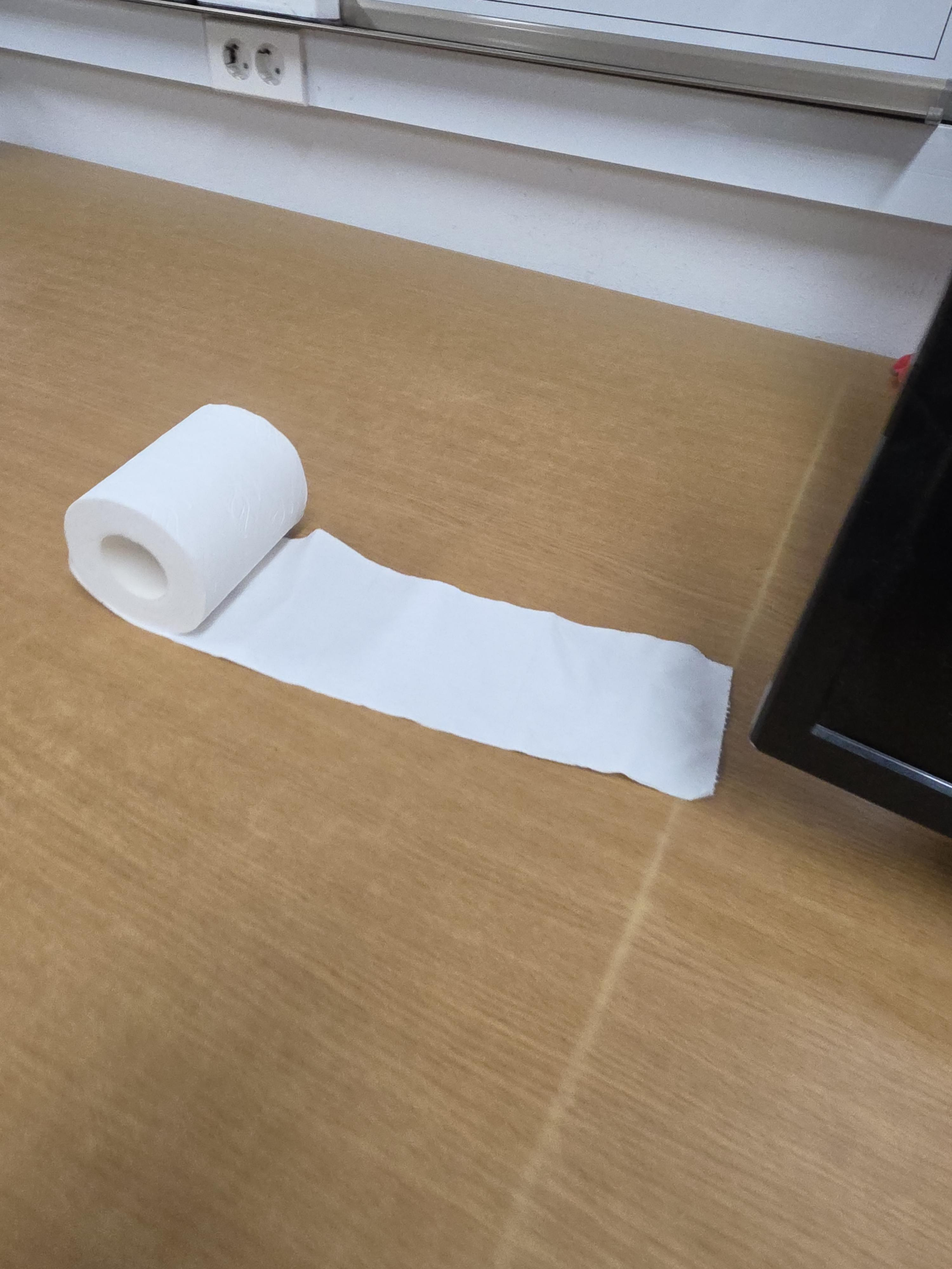tissue: (63, 403, 734, 802)
